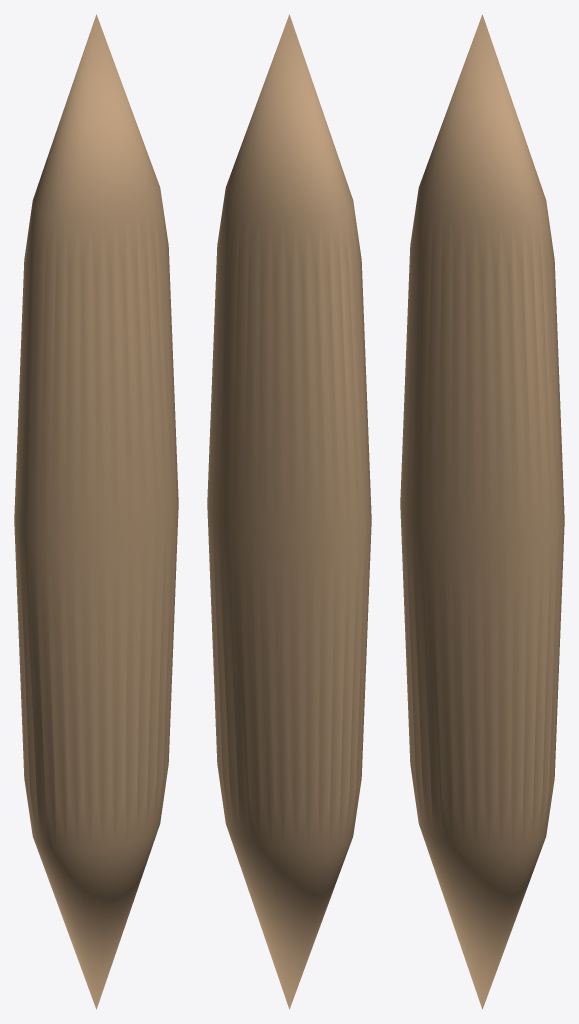
File: cucharilla_d.glb
The picture shows the model from 3 angles, left to right: view 1: azimuth 30°, elevation 25°; view 2: azimuth 150°, elevation 25°; view 3: azimuth 330°, elevation 25°; orthographic projection.
Parts seen in each view (by area): view 1: Cylinder; view 2: Cylinder; view 3: Cylinder.
Part boxes in pixels (x1,y1,x2,y2): Cylinder: [14, 14, 178, 1009]; Cylinder: [207, 14, 371, 1009]; Cylinder: [400, 14, 564, 1009].
Size of the model in its own units: 0.0207 by 0.1297 by 0.0149.
